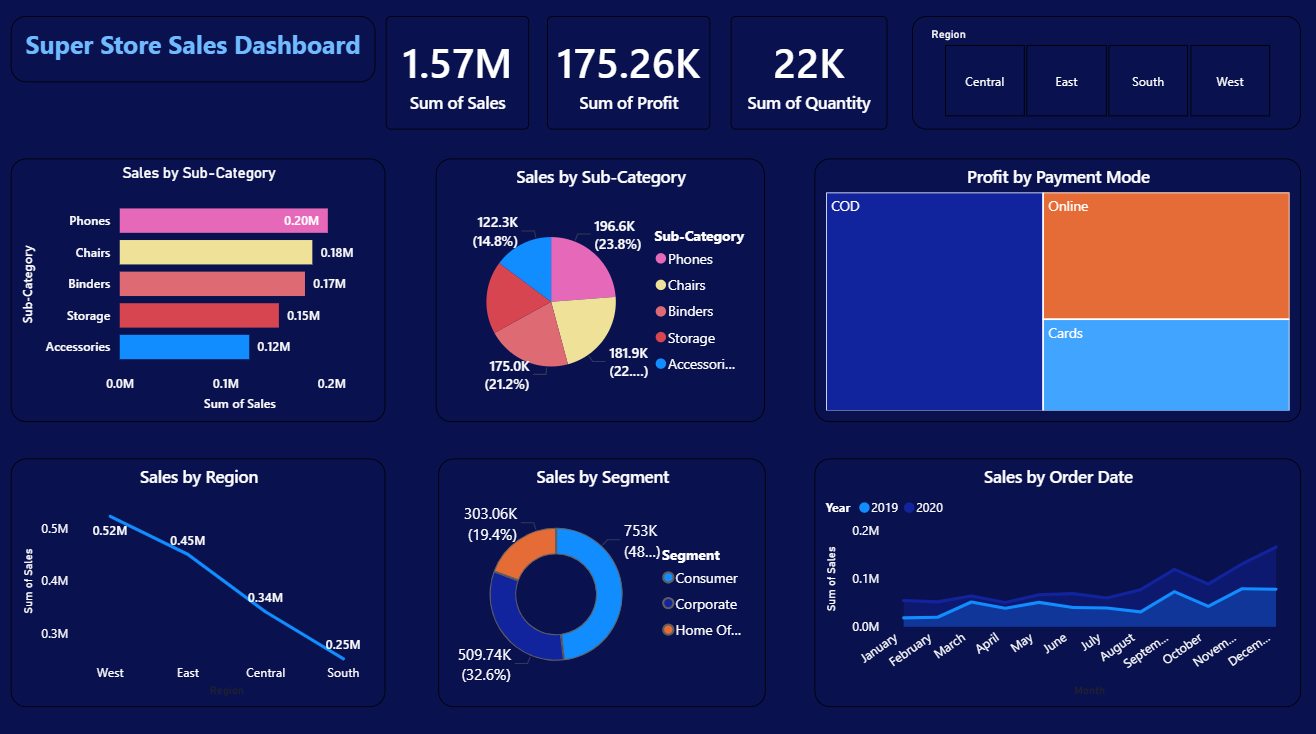

The page's visual inventory and layout, read from the dashboard file:
{"tool":"powerbi","page":{"name":"Page 1","canvas":[1280,720],"ordinal":0},"visuals":[{"type":"card","fields":{"Values":["Sum(Sheet1.Sales)"]},"box":[374.6,19.2,138.6,109.8],"z":0},{"type":"card","fields":{"Values":["Sum(Sheet1.Profit)"]},"box":[531,19.2,157.8,109.8],"z":1000},{"type":"card","fields":{"Values":["Sum(Sheet1.Quantity)"]},"box":[708.1,19.2,150.9,109.8],"z":2000},{"type":"slicer","fields":{"Values":["Sheet1.Region"]},"box":[883.1,19.3,375.2,109.8],"z":3000},{"type":"barChart","title":" Sales by Sub-Category","fields":{"Category":["Sheet1.Sub-Category"],"Y":["Sum(Sheet1.Sales)"]},"box":[13.3,156.8,361.9,254.6],"z":4000},{"type":"pieChart","title":" Sales by Sub-Category","fields":{"Category":["Sheet1.Sub-Category"],"Y":["Sum(Sheet1.Sales)"]},"box":[423.5,156.8,317.3,254.6],"z":5000},{"type":"lineChart","title":"Sales by Region","fields":{"Y":["Sum(Sheet1.Sales)"],"Category":["Sheet1.Region"]},"box":[13.3,446.4,361.9,240.1],"z":6000},{"type":"areaChart","title":"Sales by Order Date","fields":{"Category":["Sheet1.Order Date.Variation.Date Hierarchy.Month"],"Y":["Sum(Sheet1.Sales)"],"Series":["Sheet1.Order Date.Variation.Date Hierarchy.Year"]},"box":[789,446.4,469.3,240.1],"z":7000},{"type":"treemap","title":"Profit by Payment Mode","fields":{"Values":["Sum(Sheet1.Profit)"],"Group":["Sheet1.Payment Mode"]},"box":[789,156.8,469.3,254.6],"z":8000},{"type":"donutChart","title":"Sales by Segment","fields":{"Y":["Sum(Sheet1.Sales)"],"Category":["Sheet1.Segment"]},"box":[425.9,446.4,316.1,240.1],"z":9000},{"type":"textbox","box":[13.3,19.3,352.3,63.9],"z":10000}]}

Visuals, with their boxes in screenshot pixels (x1, y1, x2, y2), scaled from the page's 1280x720 canvas onto the 1316x734 screenshot:
card - Sum(Sheet1.Sales): x1=385, y1=20, x2=528, y2=132
card - Sum(Sheet1.Profit): x1=546, y1=20, x2=708, y2=132
card - Sum(Sheet1.Quantity): x1=728, y1=20, x2=883, y2=132
slicer - Sheet1.Region: x1=908, y1=20, x2=1294, y2=132
" Sales by Sub-Category" barChart: x1=14, y1=160, x2=386, y2=419
" Sales by Sub-Category" pieChart: x1=435, y1=160, x2=762, y2=419
"Sales by Region" lineChart: x1=14, y1=455, x2=386, y2=700
"Sales by Order Date" areaChart: x1=811, y1=455, x2=1294, y2=700
"Profit by Payment Mode" treemap: x1=811, y1=160, x2=1294, y2=419
"Sales by Segment" donutChart: x1=438, y1=455, x2=763, y2=700
textbox: x1=14, y1=20, x2=376, y2=85
